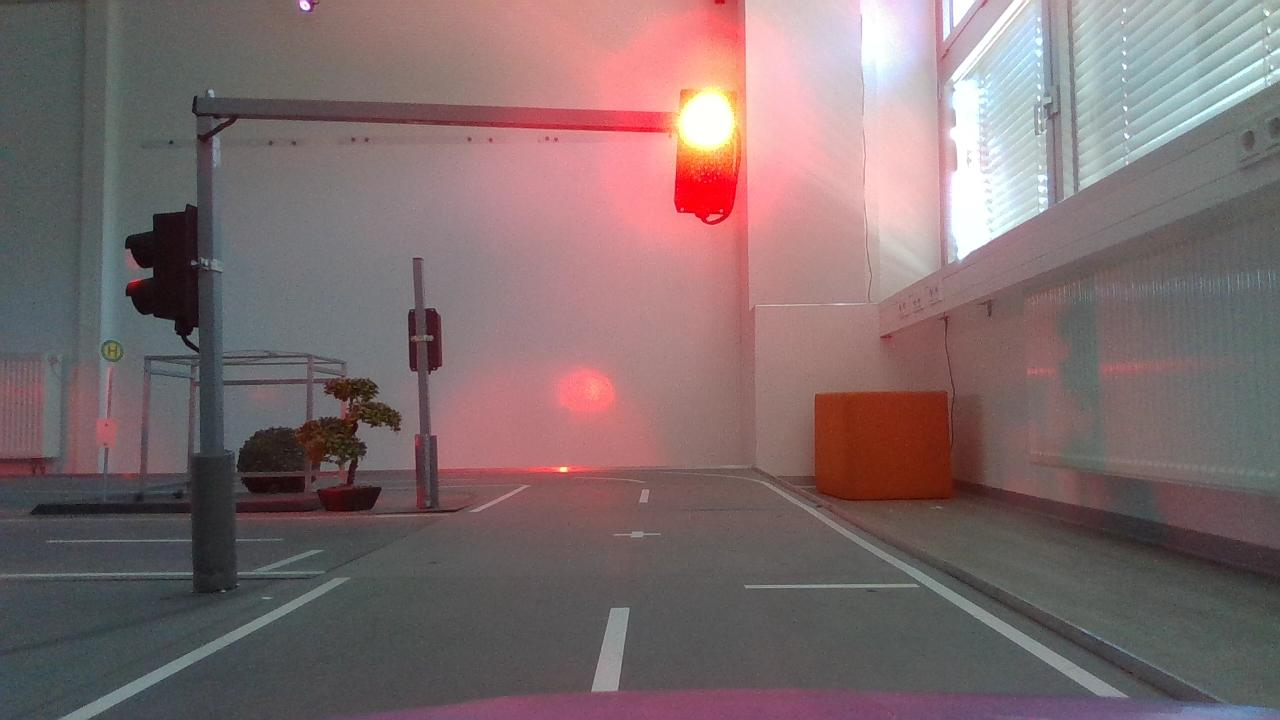traffic_light_red: (662, 71, 755, 238)
